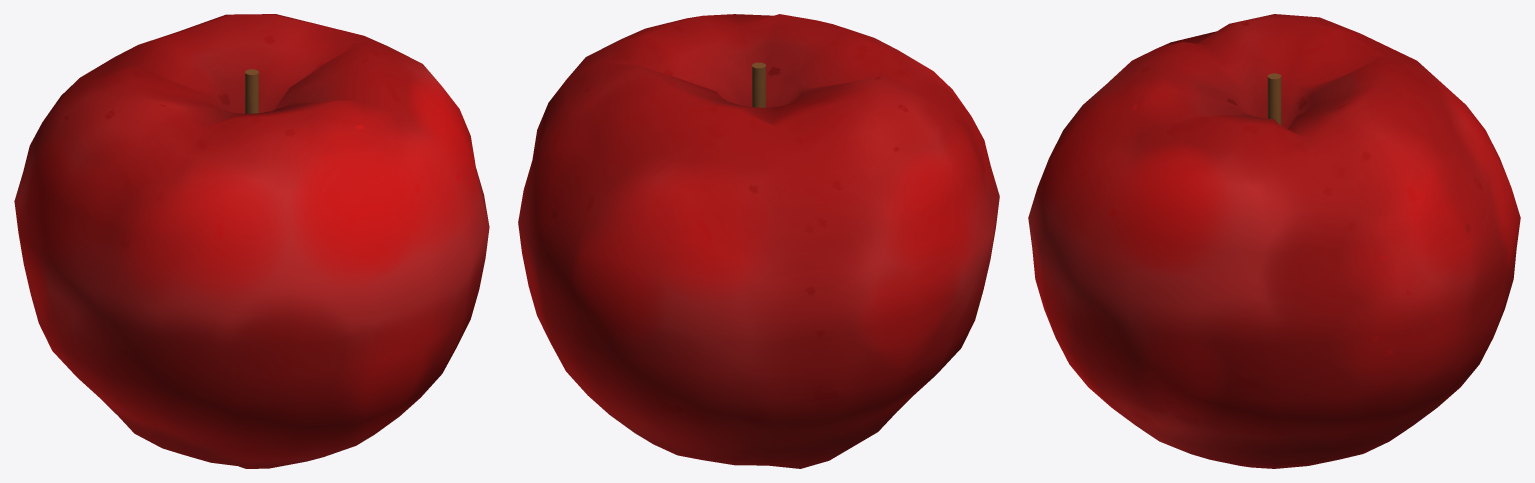
File: apple.fbx
3 renders of one model, left to right at view 1: azimuth 30°, elevation 25°; view 2: azimuth 150°, elevation 25°; view 3: azimuth 270°, elevation 25°, orthographic.
Visible parts, largest first — view 1: pSphere2; view 2: pSphere2; view 3: pSphere2.
Boxes of the visible parts, left/top/right/bottom form: pSphere2: left=14, top=14, right=489, bottom=468; pSphere2: left=518, top=14, right=999, bottom=468; pSphere2: left=1028, top=14, right=1520, bottom=468.
Size of the model in its own units: 3.76 by 3.38 by 3.95.
1 material, 1 textured.
